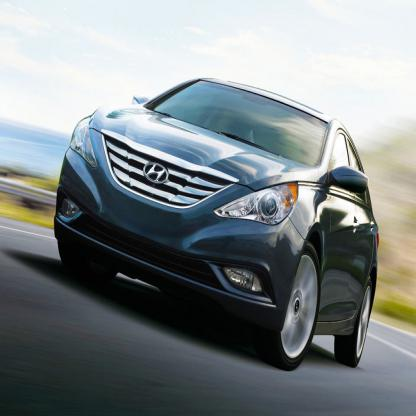Vehicle: (41, 56, 390, 389)
